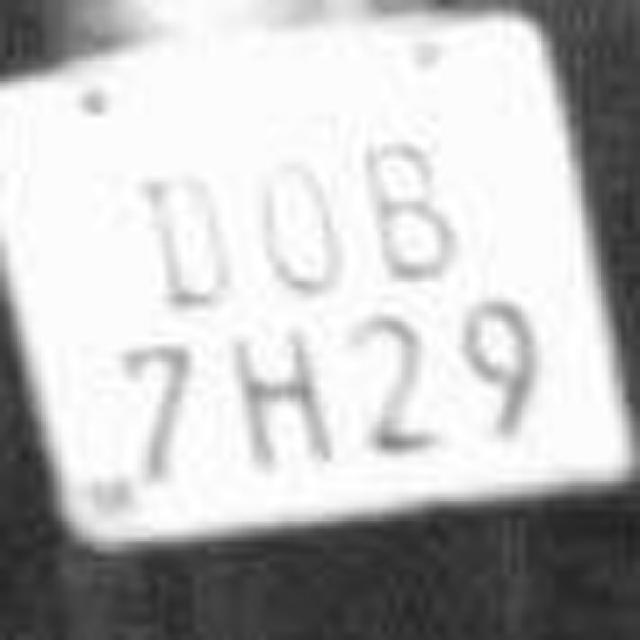2: (325, 288, 460, 464)
7: (92, 312, 216, 500)
9: (440, 272, 555, 452)
B: (352, 125, 472, 300)
D: (116, 145, 256, 320)
H: (205, 300, 340, 488)
O: (120, 132, 260, 328), (236, 124, 369, 308)
